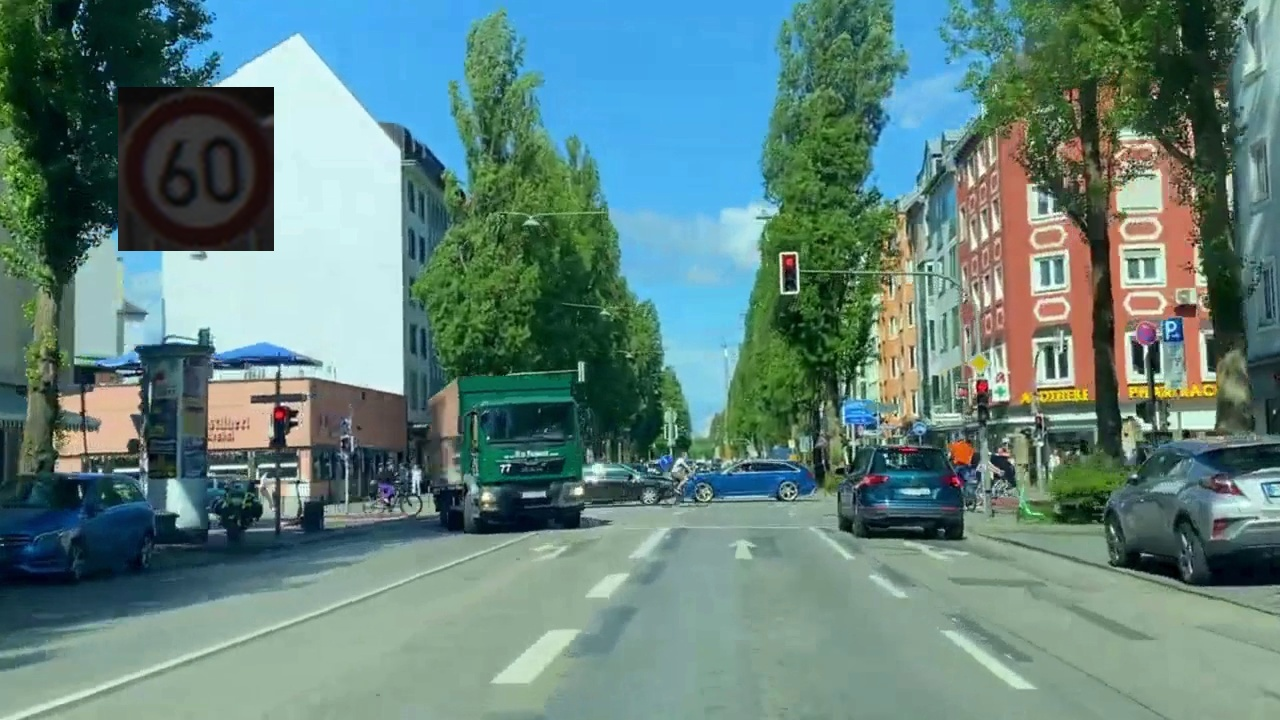Speed 60: (118, 87, 274, 251)
